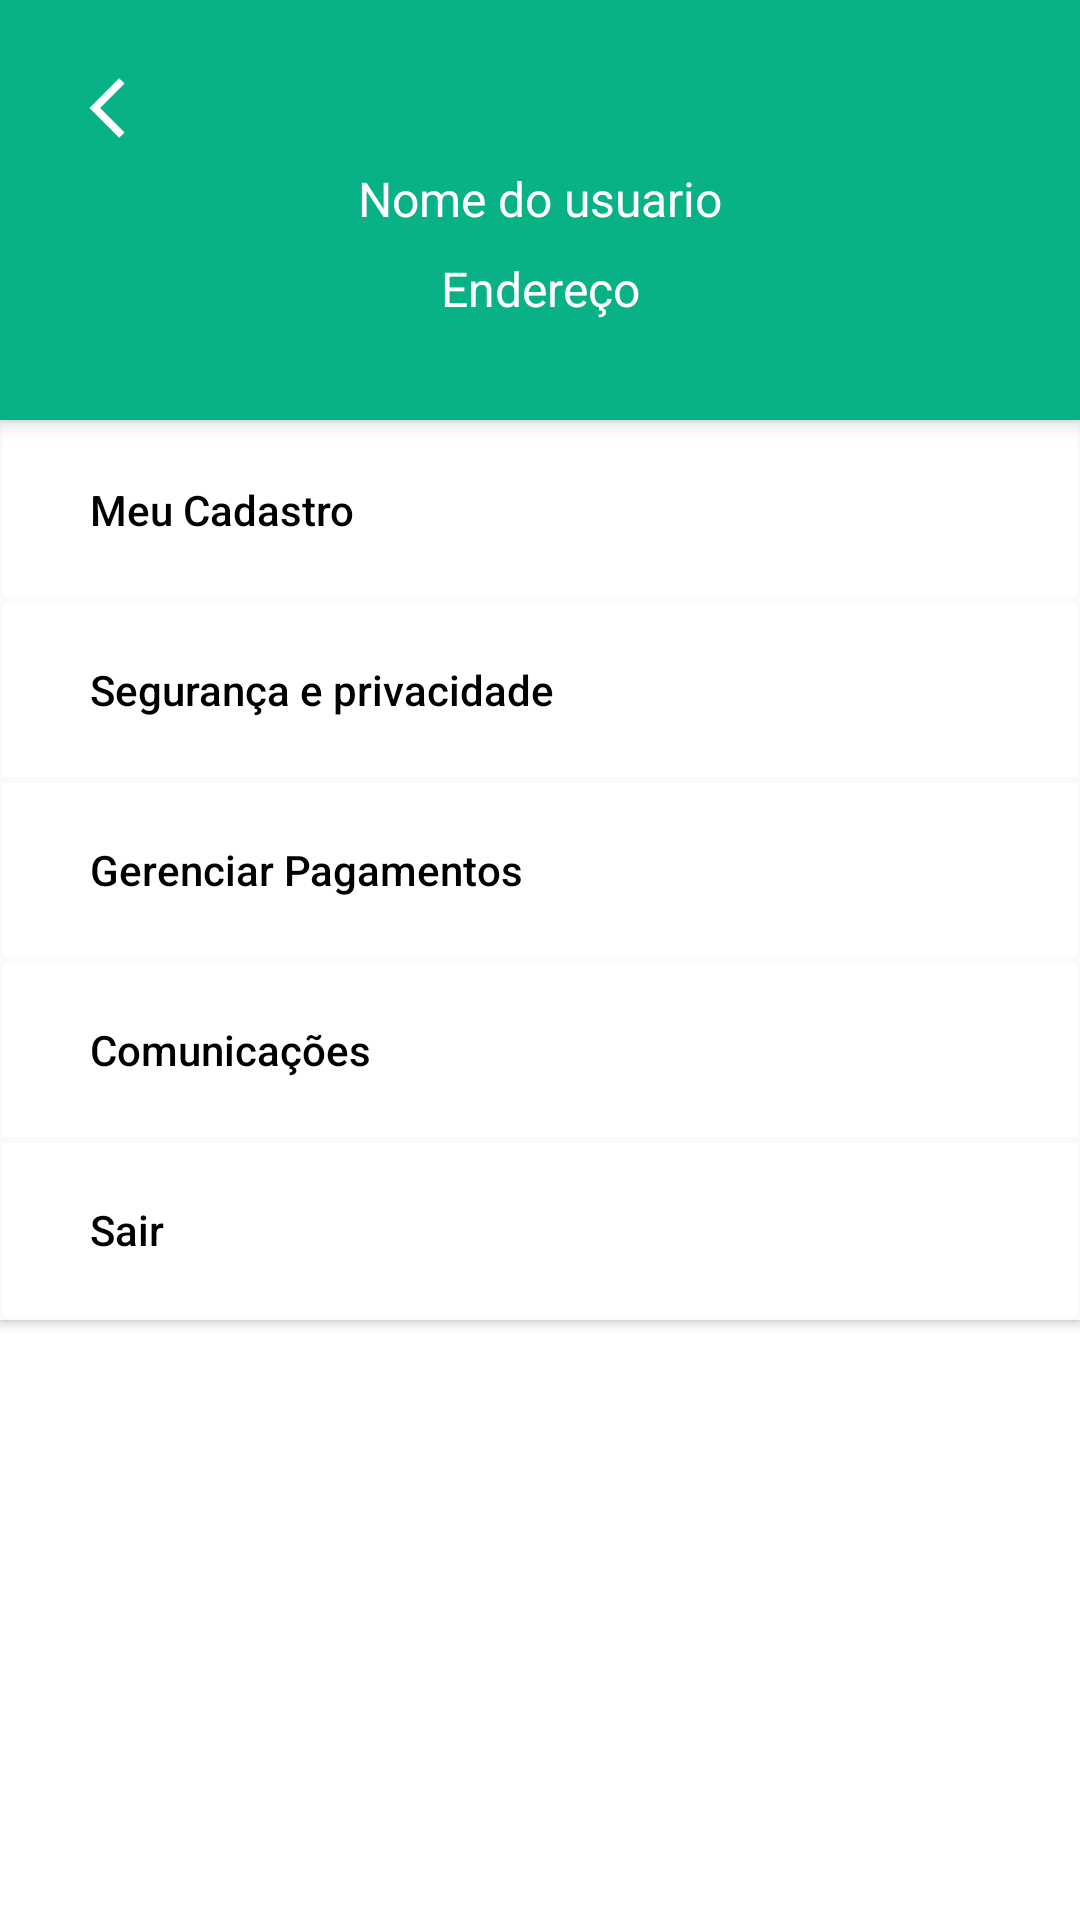

Where icons sit on this 1080w x 1920h app screen, as {"left": x1, "top": y1, "right": x2, "bottom": y2}:
arrow back: {"left": 89, "top": 78, "right": 125, "bottom": 138}
